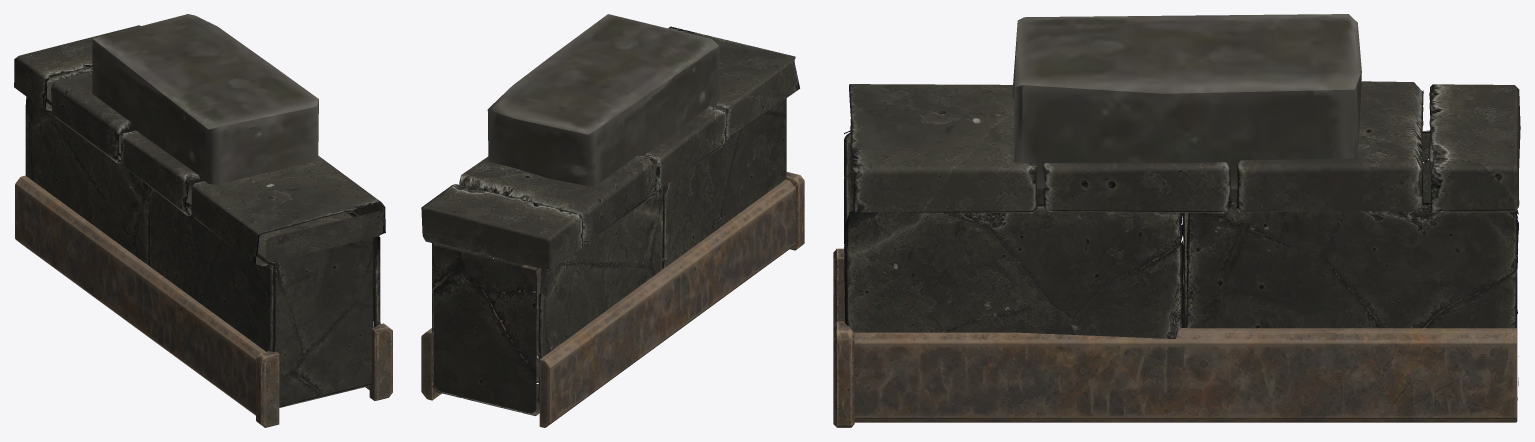
The picture shows the model from 3 angles, left to right: view 1: azimuth 30°, elevation 25°; view 2: azimuth 150°, elevation 25°; view 3: azimuth 270°, elevation 25°; orthographic projection. The views are drawn at different scales.
Visible parts, largest first — view 1: SM_Greathall_Wall_Top_4x2_01_LOD0; view 2: SM_Greathall_Wall_Top_4x2_01_LOD0; view 3: SM_Greathall_Wall_Top_4x2_01_LOD0.
Boxes of the visible parts, bbox=[...] form: SM_Greathall_Wall_Top_4x2_01_LOD0: bbox=[14, 14, 392, 427]; SM_Greathall_Wall_Top_4x2_01_LOD0: bbox=[421, 14, 804, 427]; SM_Greathall_Wall_Top_4x2_01_LOD0: bbox=[833, 14, 1520, 427].
Bounding box in the file's own units: 1.25 × 2.28 × 4.07.
4 materials, 4 textured.
